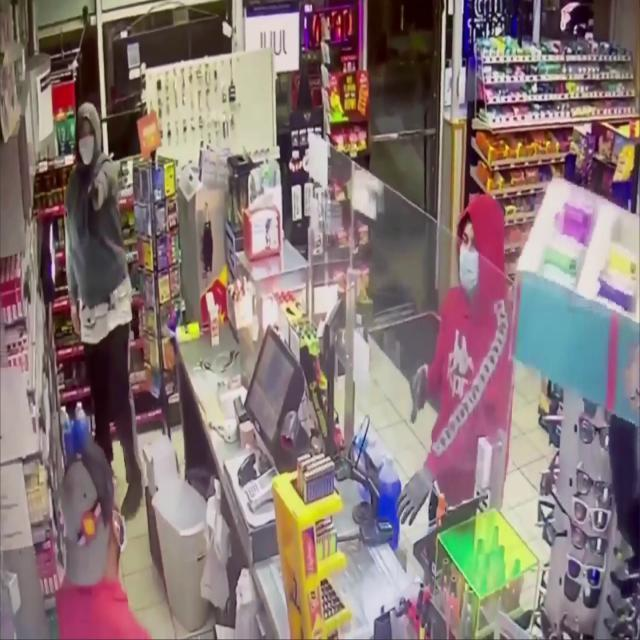gun: (410, 369, 428, 426), (88, 178, 104, 216)
